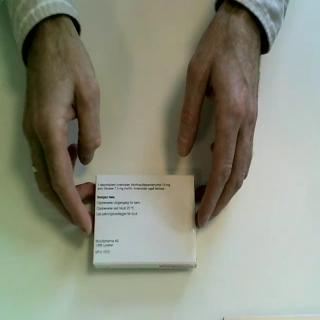dolcontin10mg: (93, 172, 199, 271)
